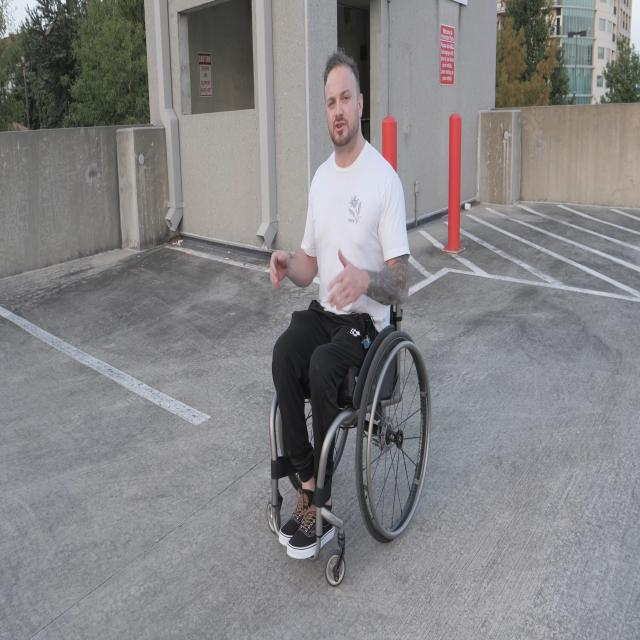wheelchairs: (266, 215, 432, 587)
